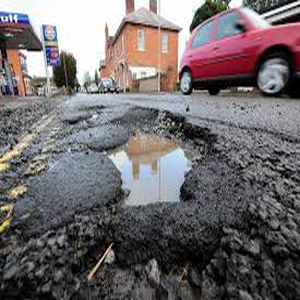pothole: (107, 109, 216, 207)
